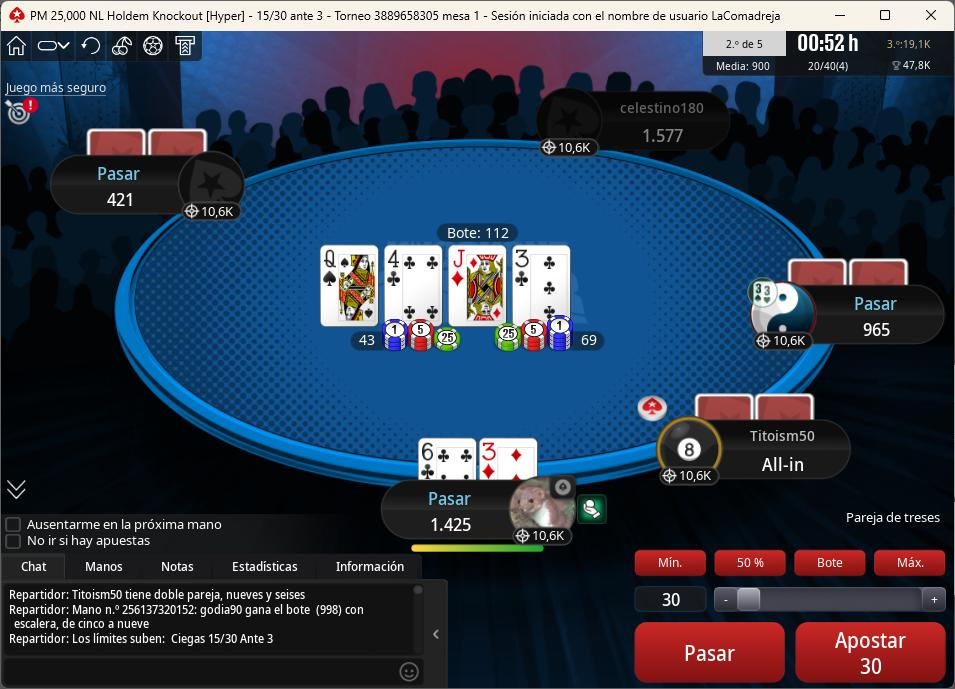ButtonCheck: (630, 616, 787, 686)
ButtonMaxRaise: (877, 548, 946, 578)
ButtonMinRaise: (633, 547, 711, 580)
ButtonPotRaise: (792, 544, 872, 578)
ButtonRaise: (792, 618, 947, 684)
Dealer: (636, 392, 672, 424)
HiddenCards: (691, 393, 822, 423), (84, 131, 212, 160), (786, 259, 913, 286)
Player: (745, 284, 951, 352), (652, 421, 854, 489), (49, 151, 247, 216), (546, 92, 734, 159)
PlayerChips: (756, 453, 815, 476), (632, 125, 693, 144), (857, 323, 900, 342), (99, 191, 139, 210)
Pot: (434, 223, 521, 243)
PrincipalCards: (419, 437, 546, 485)
PrincipalCards1: (417, 434, 478, 484)
PrincipalCards2: (479, 436, 540, 484)
PrincipalPlayer: (385, 475, 587, 551)
PrincipalPlayerChips: (423, 517, 481, 537)
ShowedCards: (315, 241, 575, 334)
ShowedCards1: (317, 241, 381, 331)
ShowedCards2: (382, 244, 445, 328)
ShowedCards3: (446, 241, 509, 333)
ShowedCards4: (512, 244, 572, 331)
SmallBigBlind: (248, 4, 335, 27)
TablePot: (333, 311, 624, 366)
